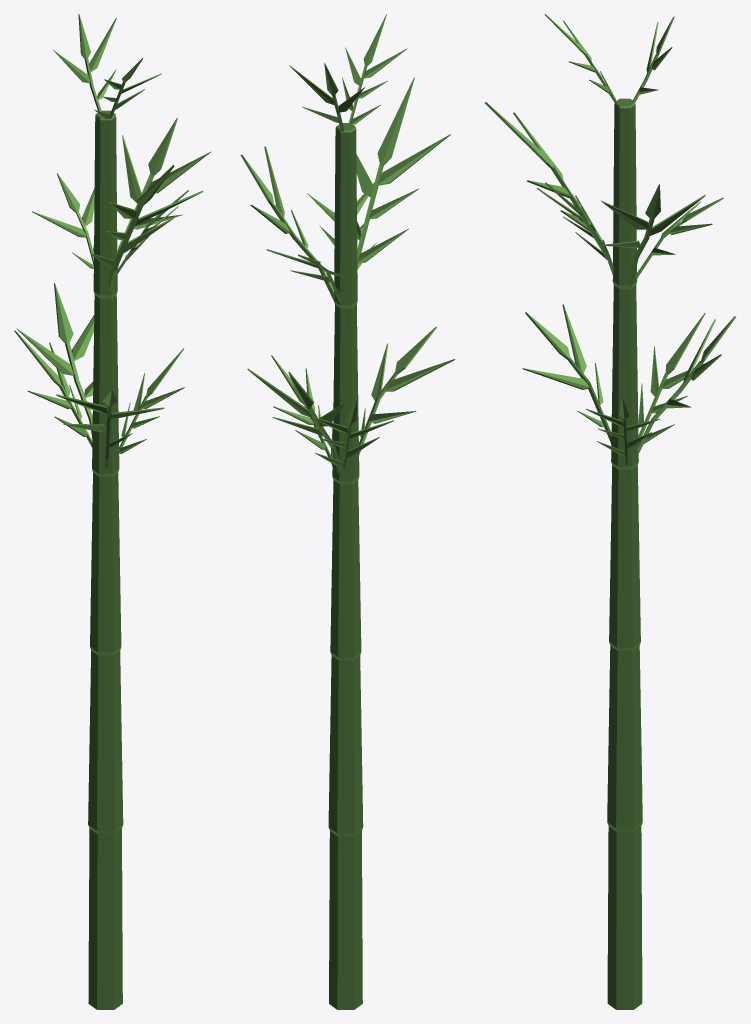
Rendered from taquaraLow2.fbx.
3 renders of one model, left to right at view 1: azimuth 30°, elevation 25°; view 2: azimuth 150°, elevation 25°; view 3: azimuth 270°, elevation 25°, orthographic. The views are drawn at different scales.
Parts seen in each view (by area): view 1: bambu, cabinho.000, cabinho.010, cabinho.006, folha.000, cabinho.008, cabinho.012, folha.004, cabinho.001, cabinho.009; view 2: bambu, cabinho.010, folha.000, cabinho.006, cabinho.000, cabinho.009, cabinho.012, cabinho.008, cabinho.001, folha.004; view 3: bambu, folha.000, cabinho.006, cabinho.012, cabinho.010, cabinho.000, cabinho.001, folha.004, cabinho.011, cabinho.008, cabinho.009.
Part boxes in pixels (<box>): bambu: <box>88,110,123,1009</box>; cabinho.000: <box>16,283,94,435</box>; cabinho.010: <box>90,165,203,291</box>; cabinho.006: <box>117,118,211,268</box>; folha.000: <box>56,388,164,467</box>; cabinho.008: <box>53,14,116,111</box>; cabinho.012: <box>14,330,92,447</box>; folha.004: <box>32,173,94,268</box>; cabinho.001: <box>119,348,184,453</box>; cabinho.009: <box>94,58,161,118</box>; bambu: <box>328,123,363,1009</box>; cabinho.010: <box>356,77,450,267</box>; folha.000: <box>359,326,455,455</box>; cabinho.006: <box>240,146,335,304</box>; cabinho.000: <box>247,368,345,474</box>; cabinho.009: <box>342,14,407,124</box>; cabinho.012: <box>312,397,393,470</box>; cabinho.008: <box>289,63,364,132</box>; cabinho.001: <box>271,355,332,466</box>; folha.004: <box>266,249,344,304</box>; bambu: <box>607,98,642,1009</box>; folha.000: <box>522,304,611,444</box>; cabinho.006: <box>601,184,705,287</box>; cabinho.012: <box>638,313,705,444</box>; cabinho.010: <box>485,102,613,276</box>; cabinho.000: <box>637,316,735,455</box>; cabinho.001: <box>586,395,659,465</box>; folha.004: <box>636,197,723,280</box>; cabinho.011: <box>536,182,613,274</box>; cabinho.008: <box>632,16,674,102</box>; cabinho.009: <box>544,14,617,103</box>.
Bounding box in the file's own units: 191 × 1017 × 235.
